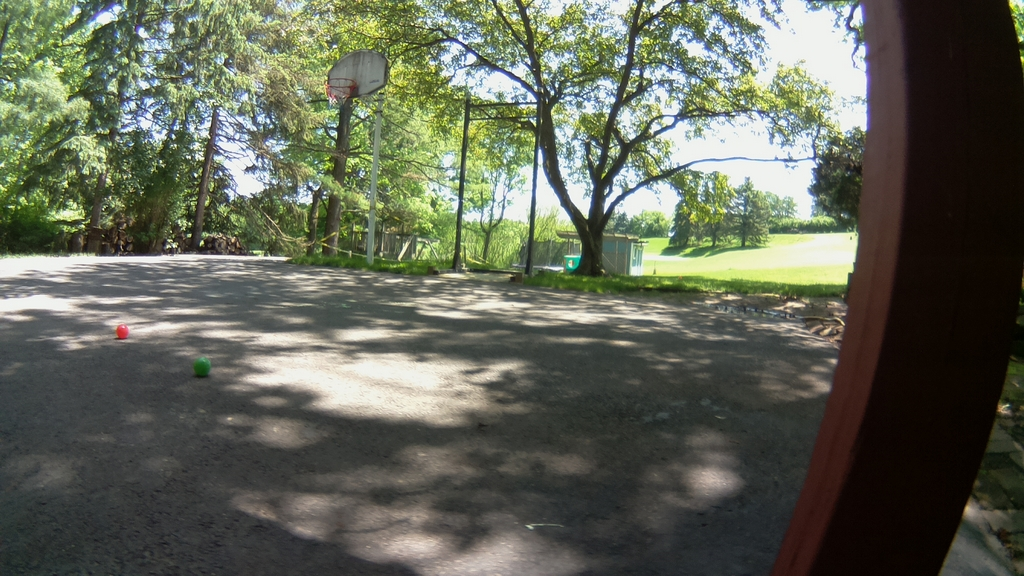ball: (195, 358, 210, 376)
